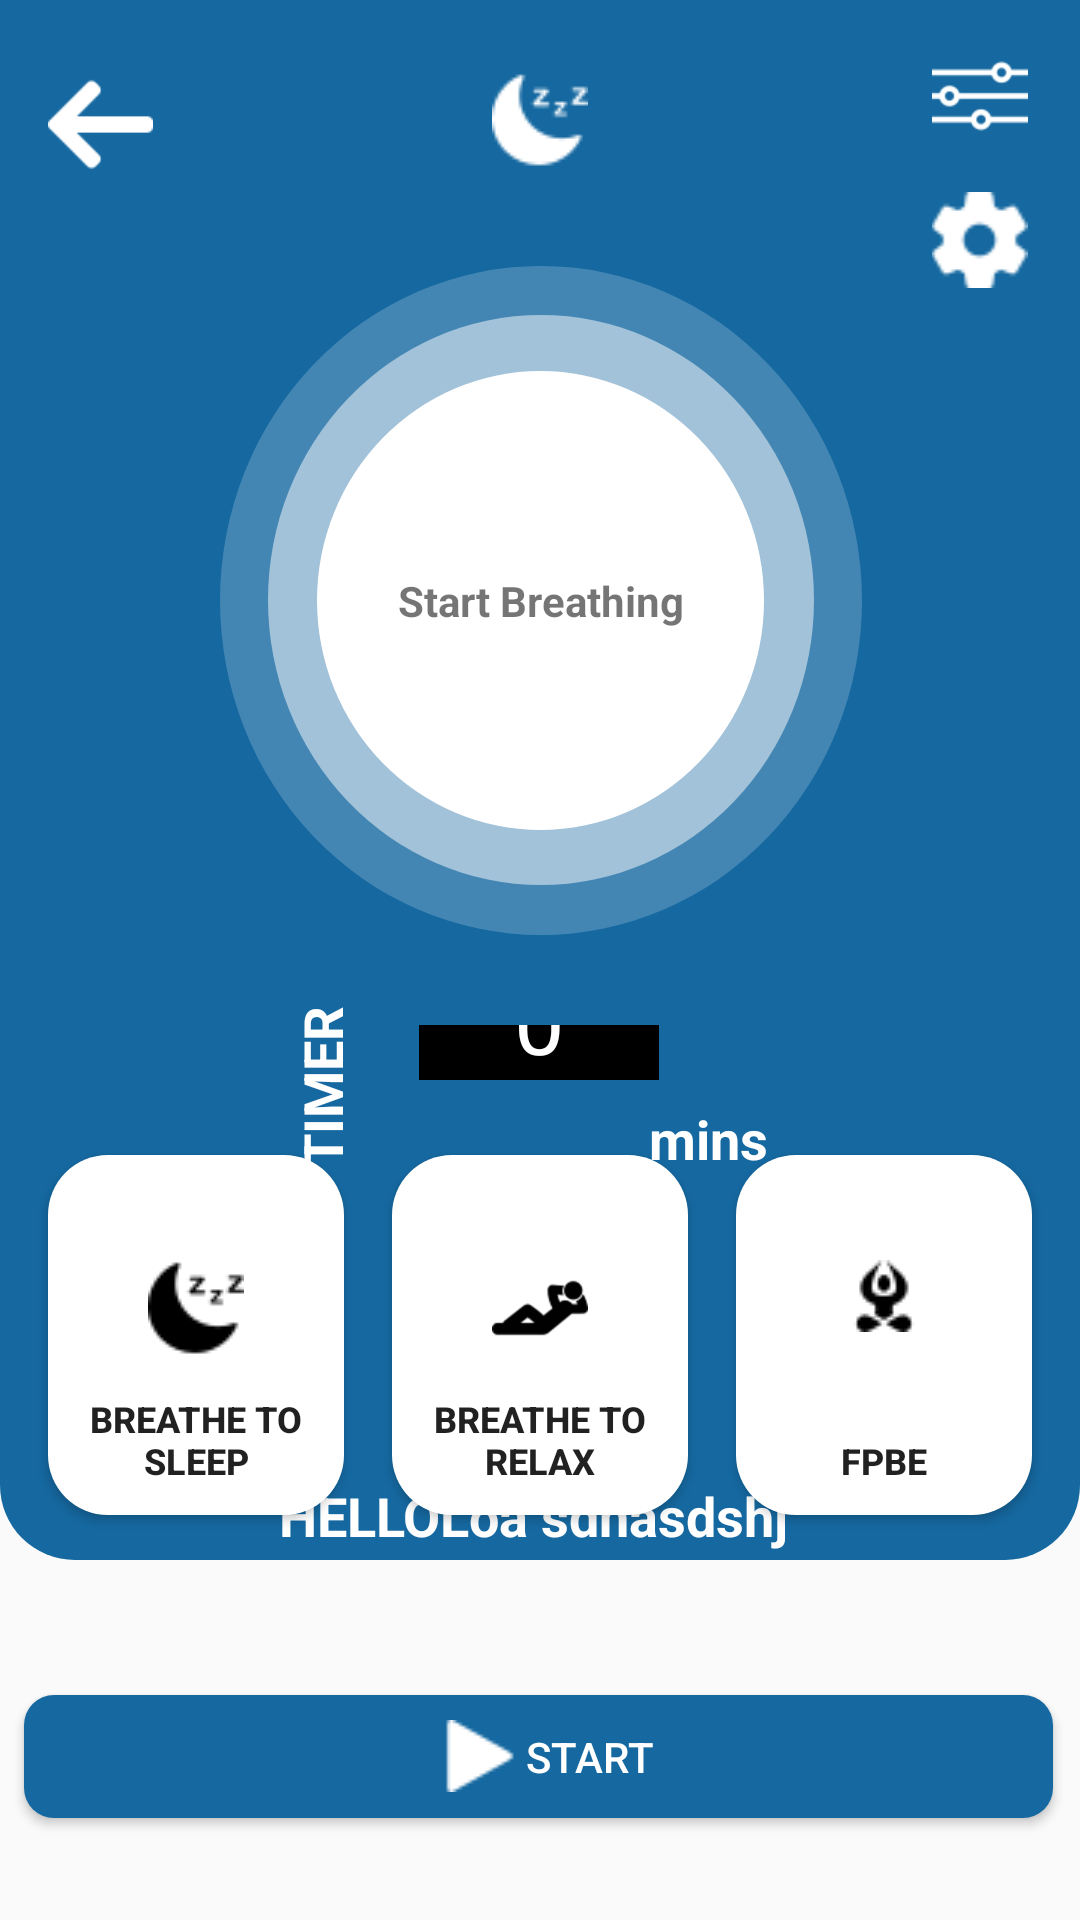

Named icons in this screenshot (1080w x 1920h) and their centers, point (x, y):
back: point (100, 124)
settings: point (980, 240)
sleepwhite: point (540, 120)
slider: point (980, 96)
